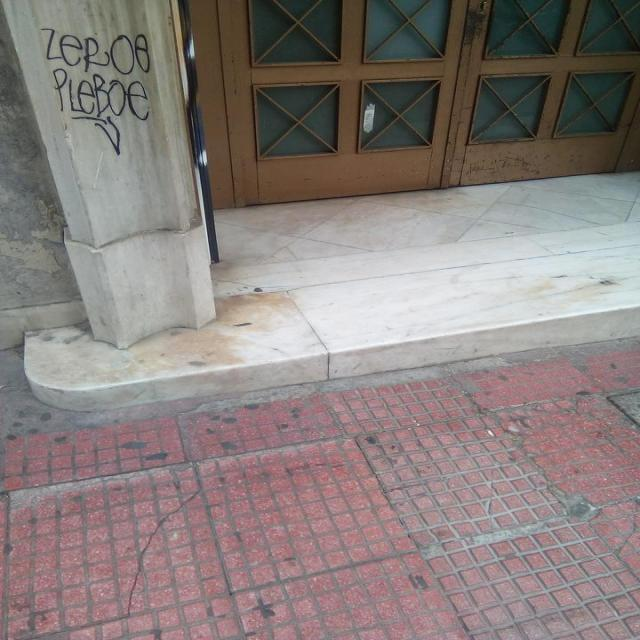nonspitting: (42, 27, 152, 156)
